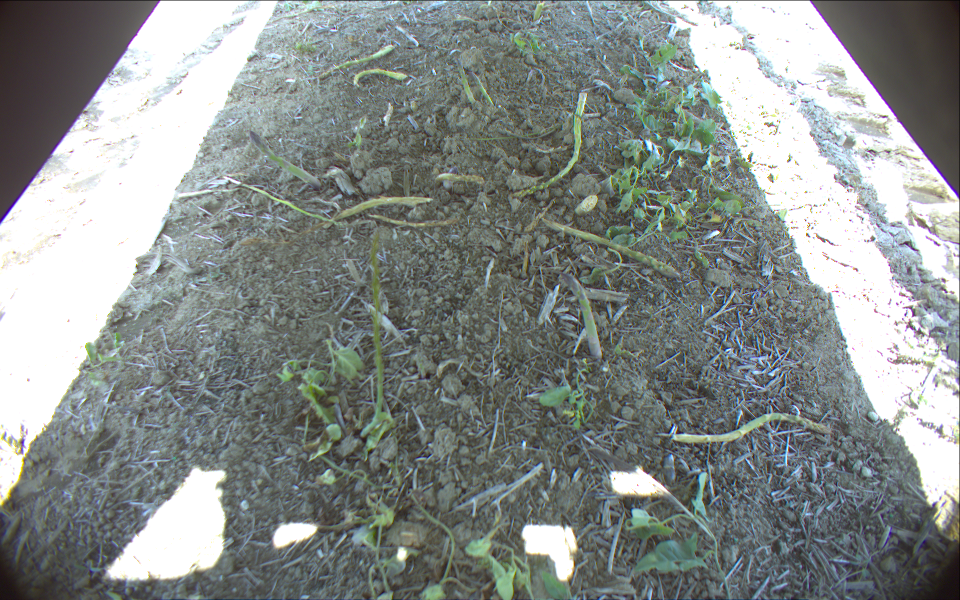aspa: (507, 92, 586, 199), (542, 218, 680, 278), (672, 411, 832, 445), (226, 177, 336, 226), (365, 230, 385, 439), (249, 132, 320, 189), (314, 43, 396, 77), (338, 197, 434, 220), (577, 284, 602, 358), (351, 69, 407, 87), (456, 57, 473, 103), (473, 72, 494, 104), (532, 1, 546, 22)
